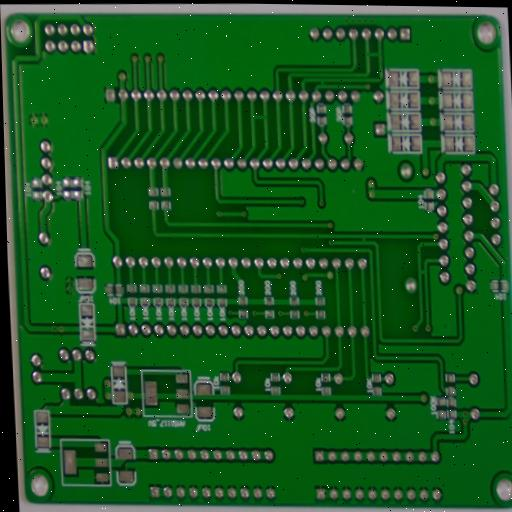short_circuit: (247, 109, 271, 124), (363, 46, 384, 63), (316, 77, 329, 90), (357, 231, 369, 245), (417, 266, 428, 279)
